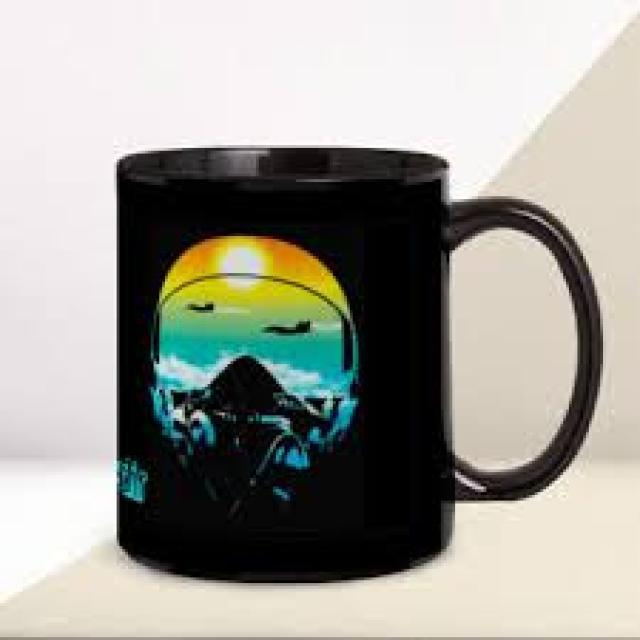taza: (114, 146, 604, 585)
